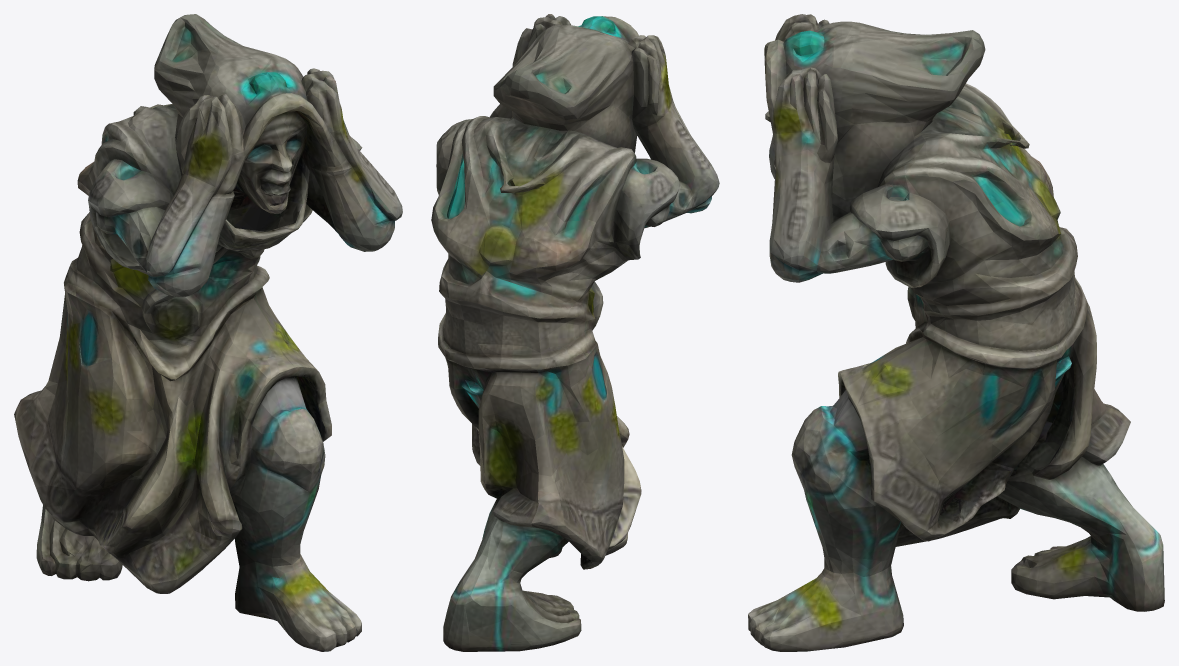
Rendered from gazeStatue.glb.
3 renders of one model, left to right at view 1: azimuth 30°, elevation 25°; view 2: azimuth 150°, elevation 25°; view 3: azimuth 270°, elevation 25°, orthographic. The views are drawn at different scales.
Parts seen in each view (by area): view 1: world; view 2: world; view 3: world.
Part boxes in pixels (x1=…): world: x1=14, y1=14, x2=402, y2=651; world: x1=431, y1=14, x2=719, y2=651; world: x1=748, y1=14, x2=1164, y2=651.
Size of the model in its own units: 0.474 by 0.9981 by 0.6458.
1 material, 1 textured.
